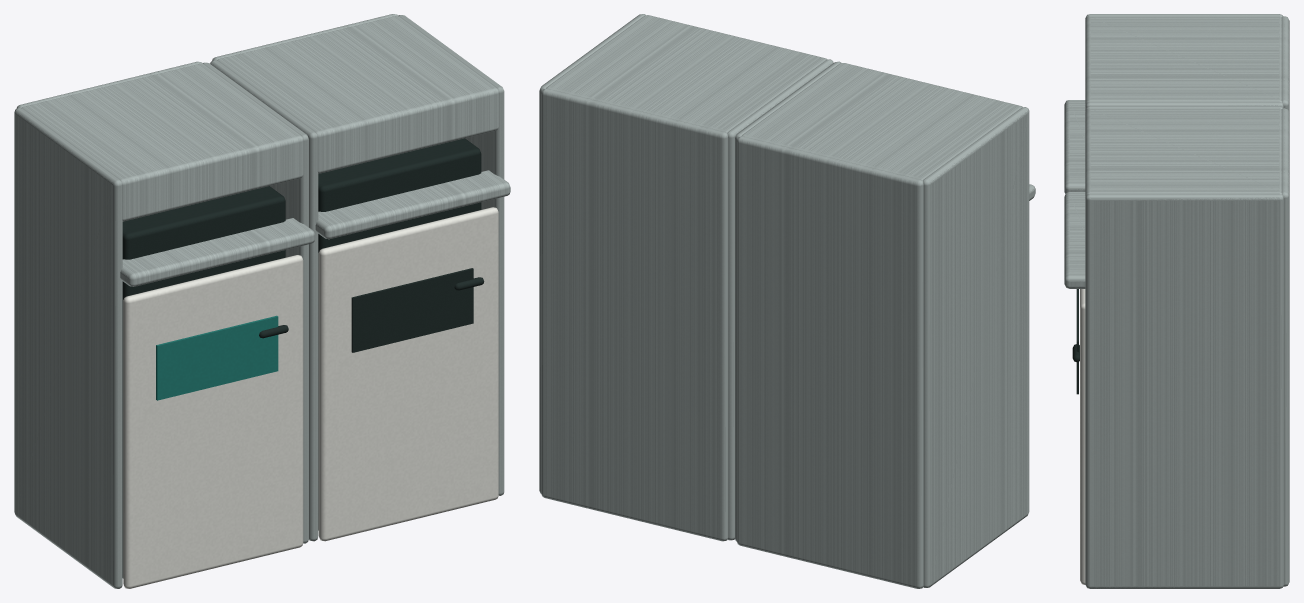
Rendered from detail-bin-double-1.glb.
3 views of the same model, side by side, from view 1: azimuth 30°, elevation 25°; view 2: azimuth 150°, elevation 25°; view 3: azimuth 270°, elevation 25° (orthographic). The views are drawn at different scales.
Visible parts, largest first — view 1: door_panel (×2), side_shell (×4), hood (×2), bin_inner_bag (×2), opening_lip (×2), label_other, label_recycle; view 2: back_shell (×2), side_shell (×4), hood (×2); view 3: side_shell (×4), hood (×2), opening_lip (×2), back_shell (×2), door_panel.
Part boxes in pixels (box(x1,y1,x2,y2)): door_panel (×2): box(123, 207, 498, 588); side_shell (×4): box(14, 15, 504, 588); hood (×2): box(21, 16, 498, 221); bin_inner_bag (×2): box(122, 138, 481, 578); opening_lip (×2): box(120, 170, 510, 286); label_other: box(351, 268, 473, 352); label_recycle: box(156, 315, 278, 400); back_shell (×2): box(541, 88, 923, 588); side_shell (×4): box(539, 14, 1029, 587); hood (×2): box(546, 15, 1022, 180); side_shell (×4): box(1085, 14, 1284, 588); hood (×2): box(1085, 16, 1281, 197); opening_lip (×2): box(1064, 100, 1085, 288); back_shell (×2): box(1281, 16, 1289, 586); door_panel: box(1080, 289, 1085, 584).
Bounding box in the file's own units: 1.05 × 1.05 × 0.5425.
4 materials, 4 textured.
